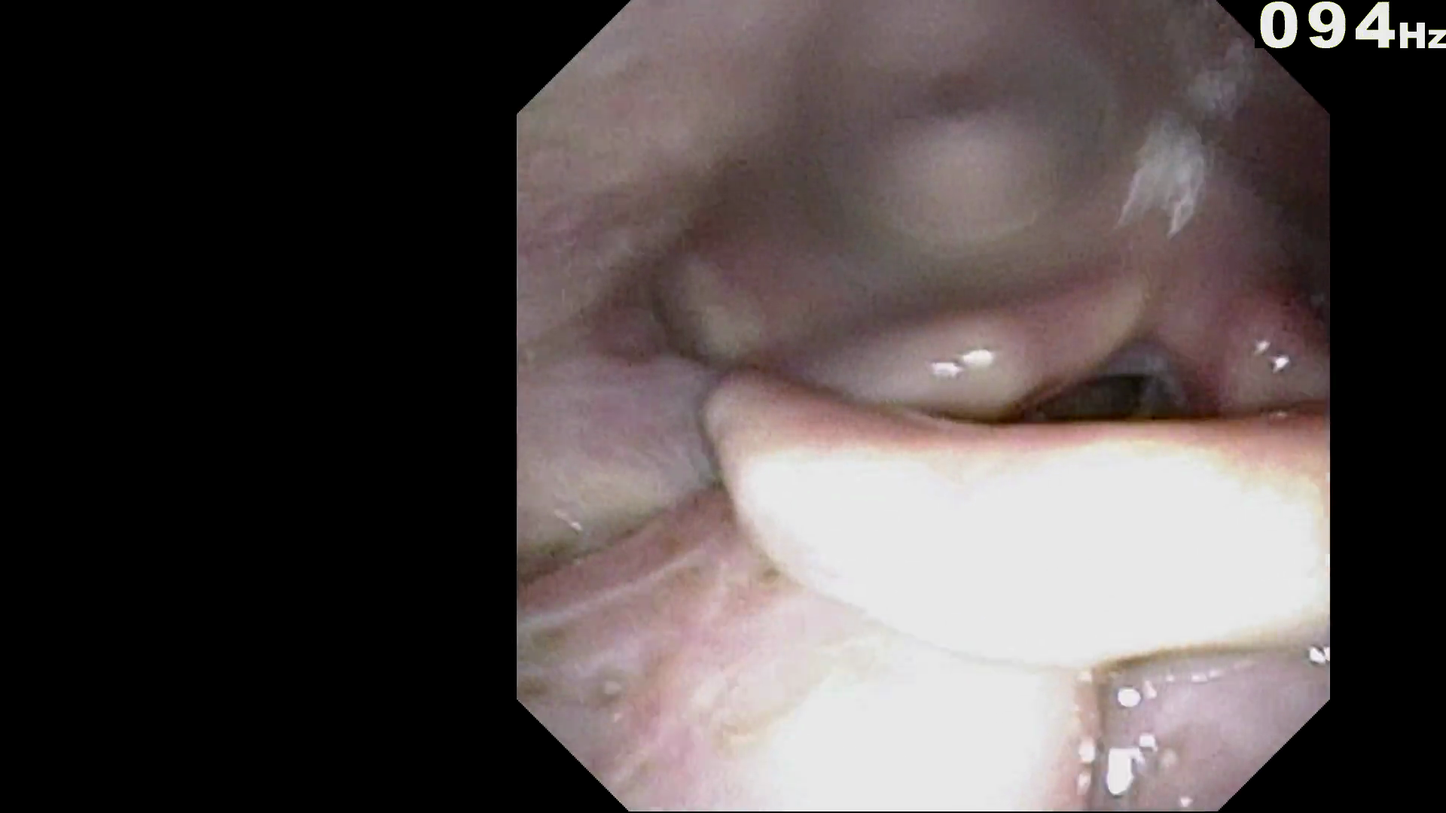epiglottis: (756, 401, 1306, 625)
trachea: (1051, 373, 1153, 458)
